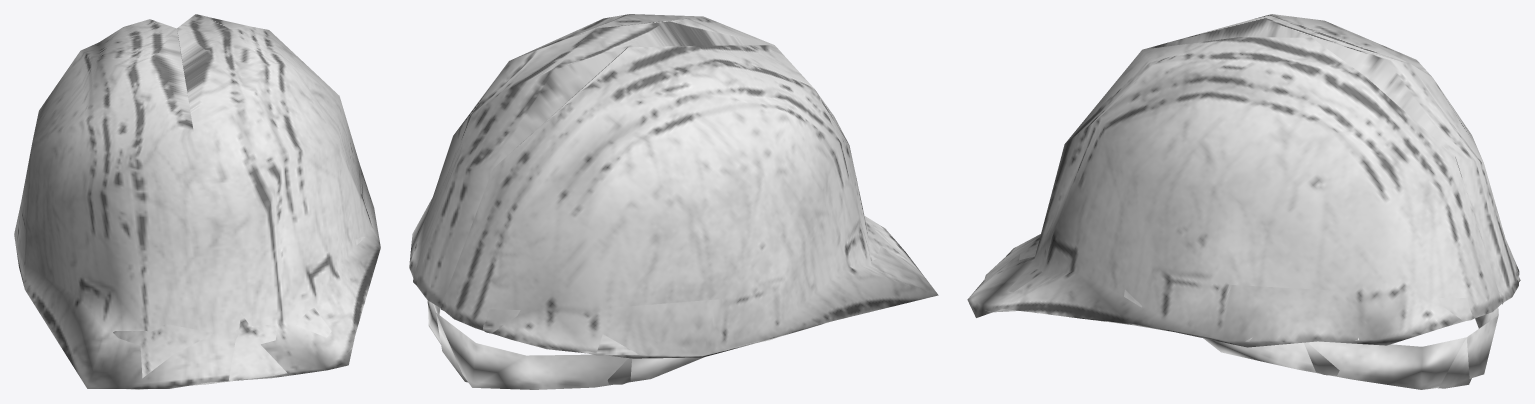
Rendered from baret (1).fbx.
3 renders of one model, left to right at view 1: azimuth 30°, elevation 25°; view 2: azimuth 150°, elevation 25°; view 3: azimuth 270°, elevation 25°, orthographic. The views are drawn at different scales.
Parts seen in each view (by area): view 1: kask; view 2: kask; view 3: kask.
Boxes of the visible parts, <box> form: kask: <box>14,14,380,389</box>; kask: <box>409,14,938,389</box>; kask: <box>967,14,1520,389</box>.
Bounding box in the file's own units: 36.9 × 26.95 × 44.39.
Materials: 1 (1 with a texture image).
